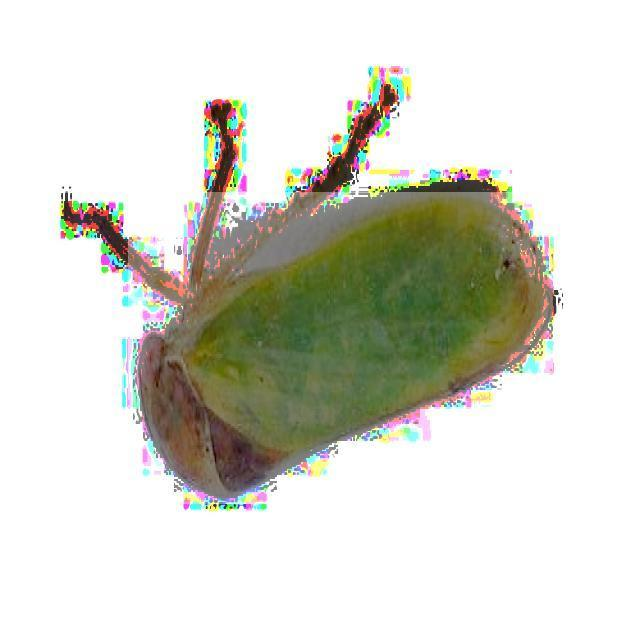green-leafhopper: (128, 192, 553, 504)
